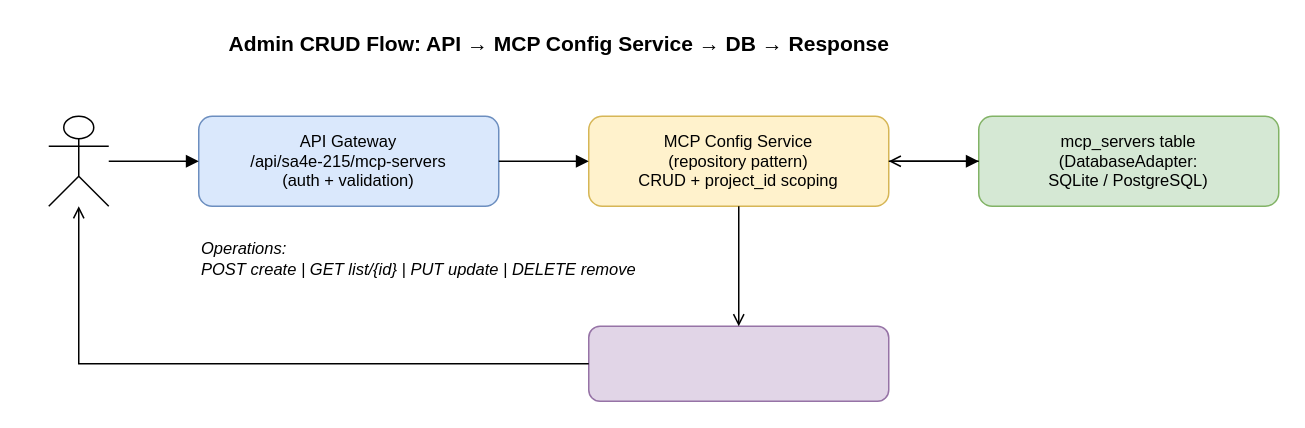
Image size: 1305x428. Some labels were removed from this diagram. Here are the shapes that lost their labels. From the top down, the centre of each, then its label:
At pixel 78 160: "Administrator (admin role)".
At pixel 738 363: "JSON Response { success, data, meta }".
